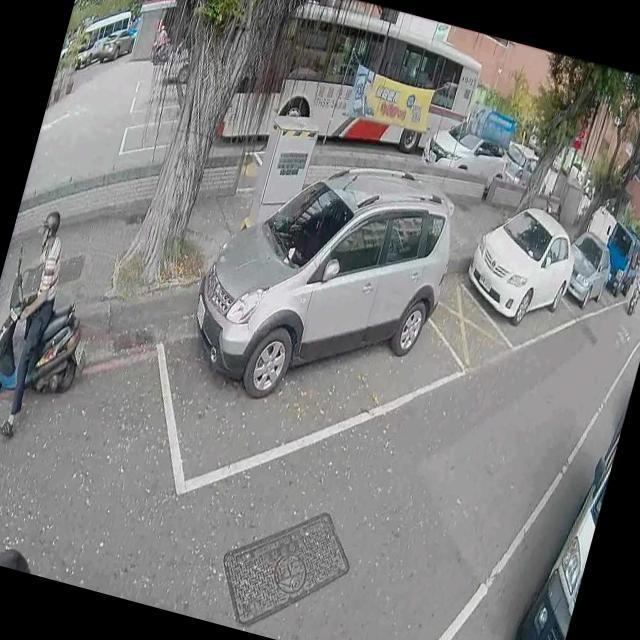person: (0, 200, 84, 444), (0, 537, 38, 574), (152, 21, 170, 53), (633, 265, 640, 301)
